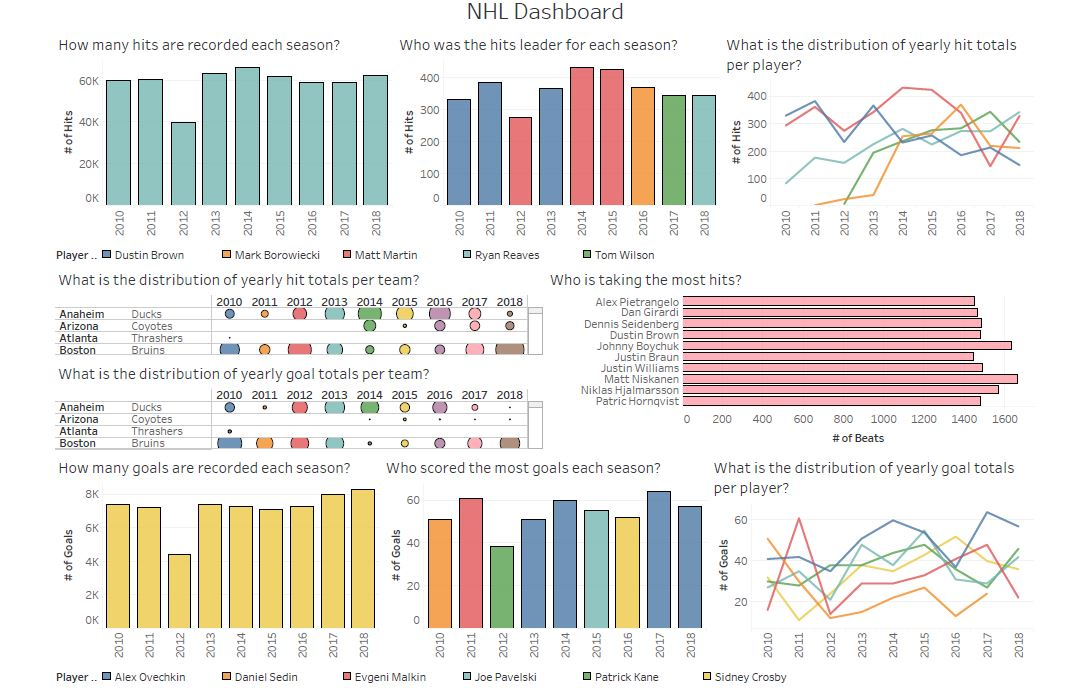

Layout of this report page (visuals, bound fields, positions):
{"tool":"tableau","page":{"name":"NHL Dashboard","canvas":[1654,1169],"ordinal":0},"visuals":[{"type":"worksheet","box":[0,0,1654,1169]},{"type":"worksheet","param":"vert","box":[8,8,1638,1121]},{"type":"worksheet","box":[8,8,1638,58]},{"type":"worksheet","box":[8,66,1638,1063]},{"type":"worksheet","param":"horz","box":[8,66,1638,360]},{"type":"worksheet","box":[8,66,1638,360]},{"type":"worksheet","title":"AT1","mark":"Bar","rows":["hit_count"],"cols":["season"],"box":[8,66,568,360]},{"type":"worksheet","title":"AT2","mark":"Bar","rows":["hit_count (Custom SQL Query)"],"cols":["season (Custom SQL Query)"],"box":[576,66,545,360]},{"type":"worksheet","title":"AT3","mark":"Line","rows":["hit_count (Custom SQL Query) #1"],"cols":["season (Custom SQL Query) #1"],"box":[1121,66,525,360]},{"type":"worksheet","param":"horz","box":[8,426,1638,32]},{"type":"worksheet","title":"AT2","mark":"Bar","rows":["hit_count (Custom SQL Query)"],"cols":["season (Custom SQL Query)"],"param":"[federated.0ylhayn1vq00fm18pqnie1g62b77].[none:Calculation_1368249870778294272:n","box":[8,426,1638,32]},{"type":"worksheet","title":"AT4","mark":"Circle","rows":["short_name","team_name"],"cols":["season (Custom SQL Query) #2"],"box":[8,458,819,156]},{"type":"worksheet","title":"AT5","mark":"Bar","rows":["Calculation_1368249870786605062"],"cols":["beat_count"],"box":[827,458,819,313]},{"type":"worksheet","title":"AT9","mark":"Circle","rows":["short_name (Custom SQL Query)","team_name (Custom SQL Query)"],"cols":["season (Custom SQL Query) #6"],"box":[8,614,819,157]},{"type":"worksheet","title":"AT6","mark":"Bar","rows":["goal_count"],"cols":["season (Custom SQL Query) #3"],"box":[8,771,546,358]},{"type":"worksheet","title":"AT7","mark":"Bar","rows":["goal_count (Custom SQL Query)"],"cols":["season (Custom SQL Query) #4"],"box":[554,771,546,358]},{"type":"worksheet","title":"AT8","mark":"Line","rows":["goal_count (Custom SQL Query) #1"],"cols":["season (Custom SQL Query) #5"],"box":[1100,771,546,358]},{"type":"worksheet","box":[8,1129,1638,32]},{"type":"worksheet","title":"AT7","mark":"Bar","rows":["goal_count (Custom SQL Query)"],"cols":["season (Custom SQL Query) #4"],"param":"[federated.0ylhayn1vq00fm18pqnie1g62b77].[none:Calculation_1368249870789333001:n","box":[8,1129,1638,32]}]}

Visuals, with their boxes on the page's 1654x1169 design canvas (x1, y1, x2, y2). These are canvas units, not pixel positions in the 1090x688 screenshot, which may show the page scaled, cropped or inside an application window:
worksheet: bbox=[0, 0, 1654, 1169]
worksheet: bbox=[8, 8, 1646, 1129]
worksheet: bbox=[8, 8, 1646, 66]
worksheet: bbox=[8, 66, 1646, 1129]
worksheet: bbox=[8, 66, 1646, 426]
worksheet: bbox=[8, 66, 1646, 426]
"AT1" worksheet (Bar marks): bbox=[8, 66, 576, 426]
"AT2" worksheet (Bar marks): bbox=[576, 66, 1121, 426]
"AT3" worksheet (Line marks): bbox=[1121, 66, 1646, 426]
worksheet: bbox=[8, 426, 1646, 458]
"AT2" worksheet (Bar marks): bbox=[8, 426, 1646, 458]
"AT4" worksheet (Circle marks): bbox=[8, 458, 827, 614]
"AT5" worksheet (Bar marks): bbox=[827, 458, 1646, 771]
"AT9" worksheet (Circle marks): bbox=[8, 614, 827, 771]
"AT6" worksheet (Bar marks): bbox=[8, 771, 554, 1129]
"AT7" worksheet (Bar marks): bbox=[554, 771, 1100, 1129]
"AT8" worksheet (Line marks): bbox=[1100, 771, 1646, 1129]
worksheet: bbox=[8, 1129, 1646, 1161]
"AT7" worksheet (Bar marks): bbox=[8, 1129, 1646, 1161]
